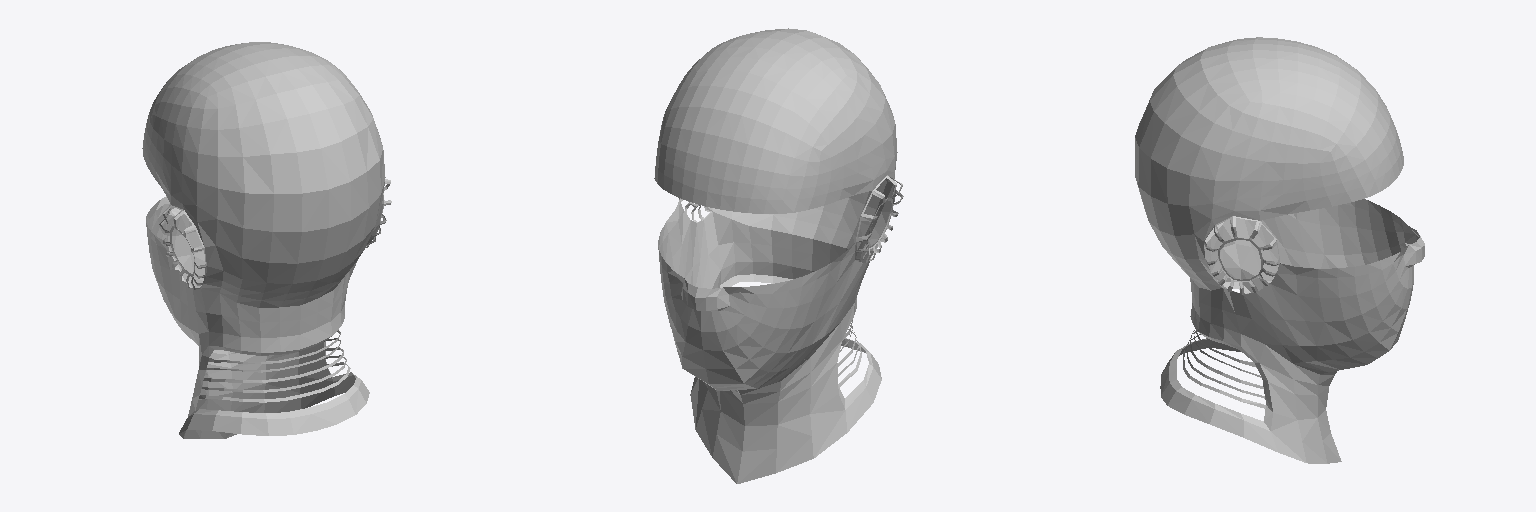
Rendered from head.obj.
3 renders of one model, left to right at view 1: azimuth 30°, elevation 25°; view 2: azimuth 150°, elevation 25°; view 3: azimuth 270°, elevation 25°, orthographic.
Parts seen in each view (by area): view 1: Head.010; view 2: Head.010; view 3: Head.010.
Boxes of the visible parts, box(x1,y1,x2,y2) form: Head.010: box(142, 42, 391, 438); Head.010: box(654, 28, 903, 483); Head.010: box(1135, 37, 1424, 463).
Size of the model in its own units: 0.1619 by 0.3007 by 0.1925.